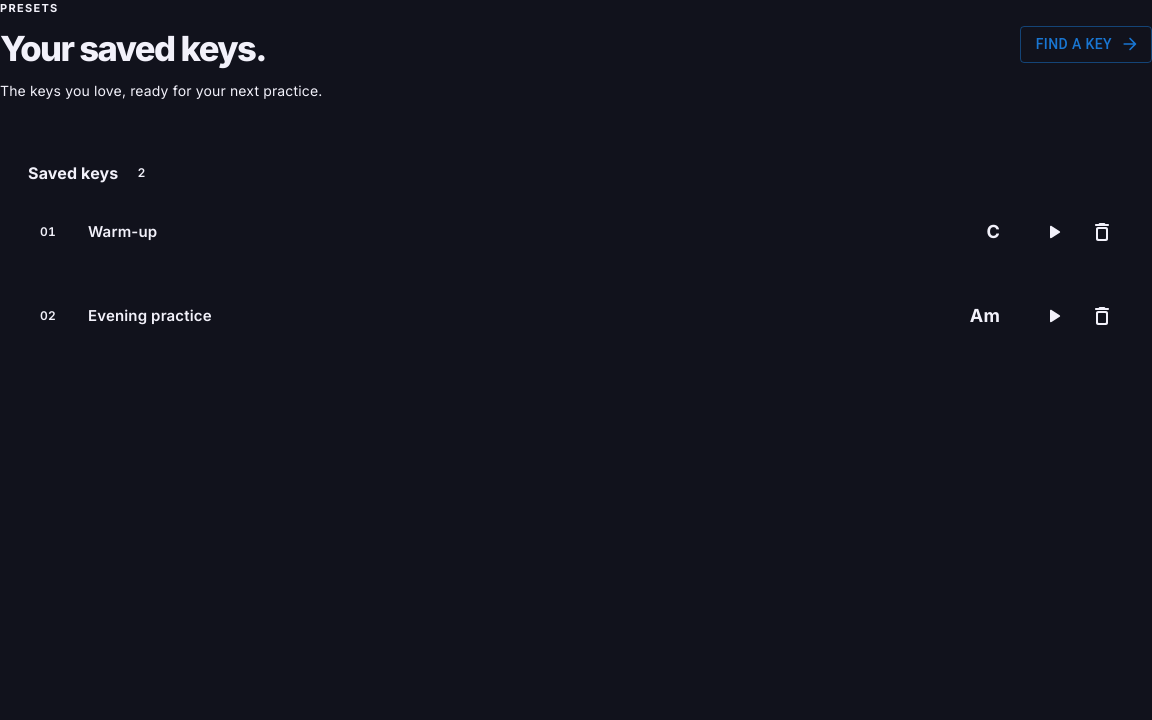
Test: saved-key deletion while audio is playing › keeps the Stop control and playing marker on the original row when deleting an earlier preset fails
The width and height of the screenshot is (1152, 720).
Click the button named "Play tone Evening practice" at (1054, 316), box [1032, 294, 1076, 338]
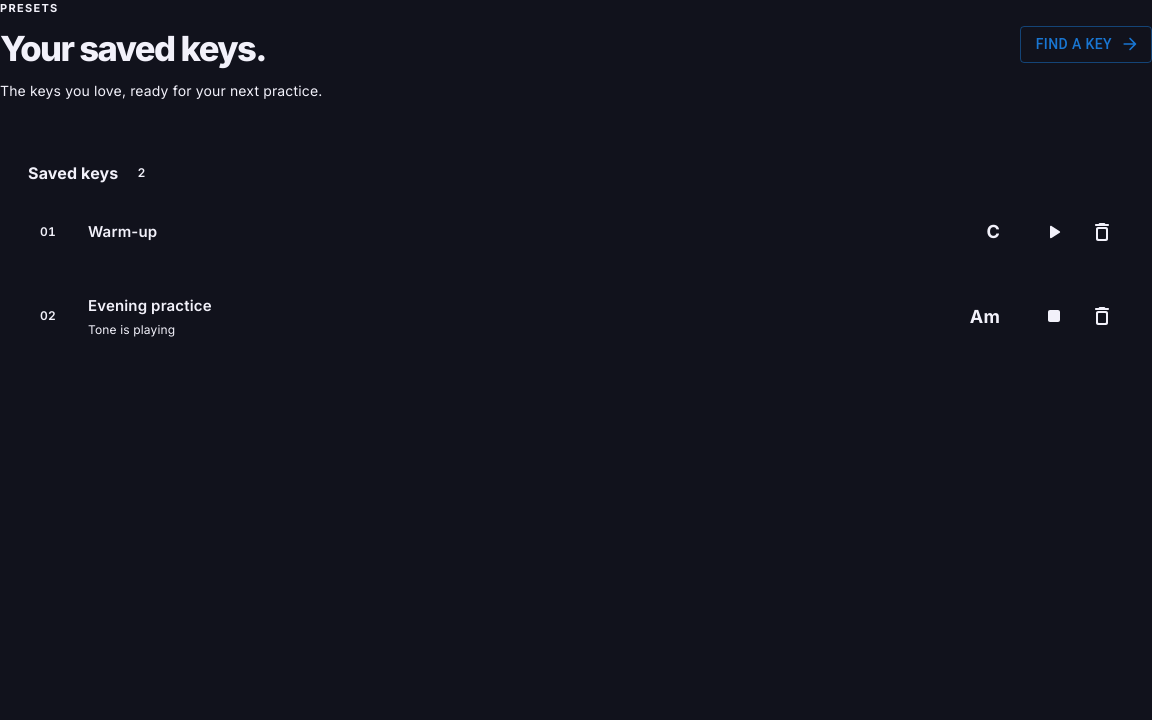
Click the button named "Delete Warm-up" at (1102, 232), box [1080, 210, 1124, 254]
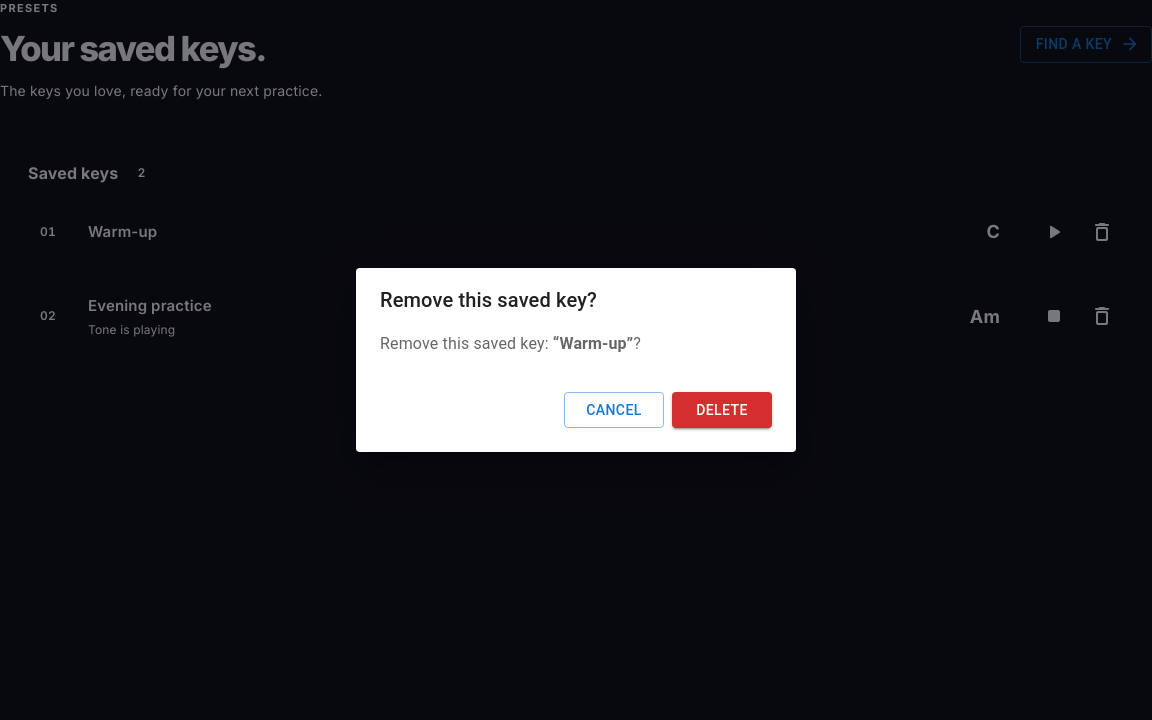
Click the button "Delete" at (722, 410), box [672, 392, 772, 428]
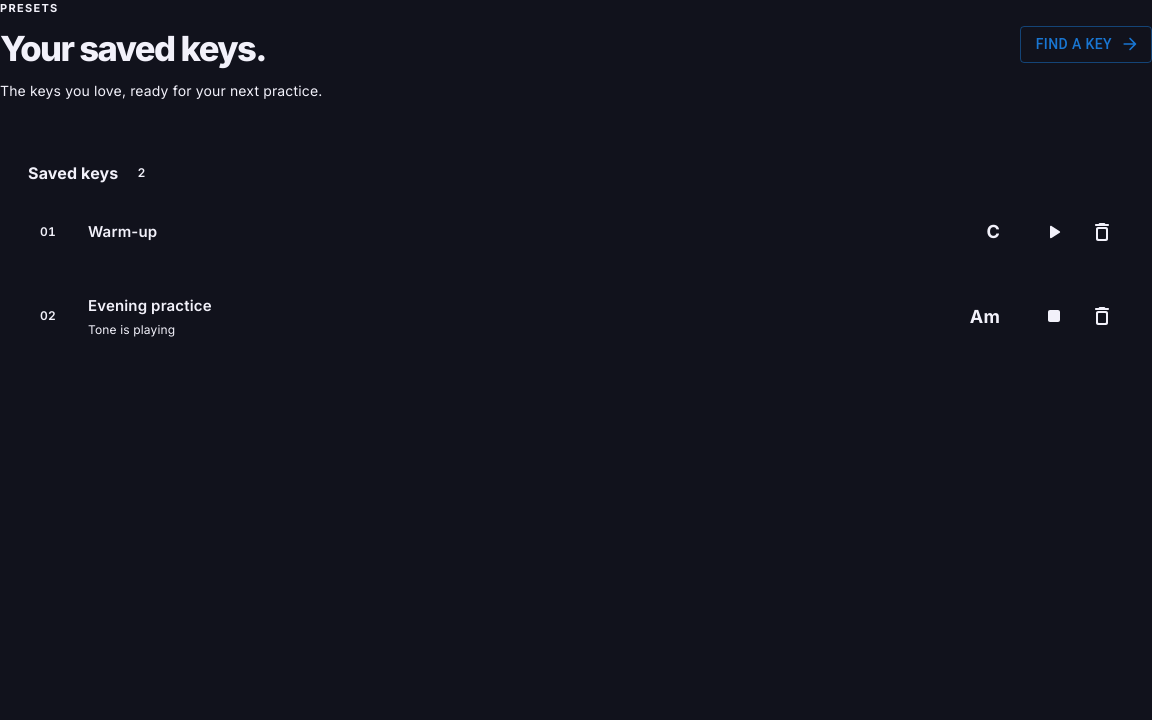
Check: the text "Tone is playing" is shown, box [88, 322, 175, 337]
Check: the dialog is gone
